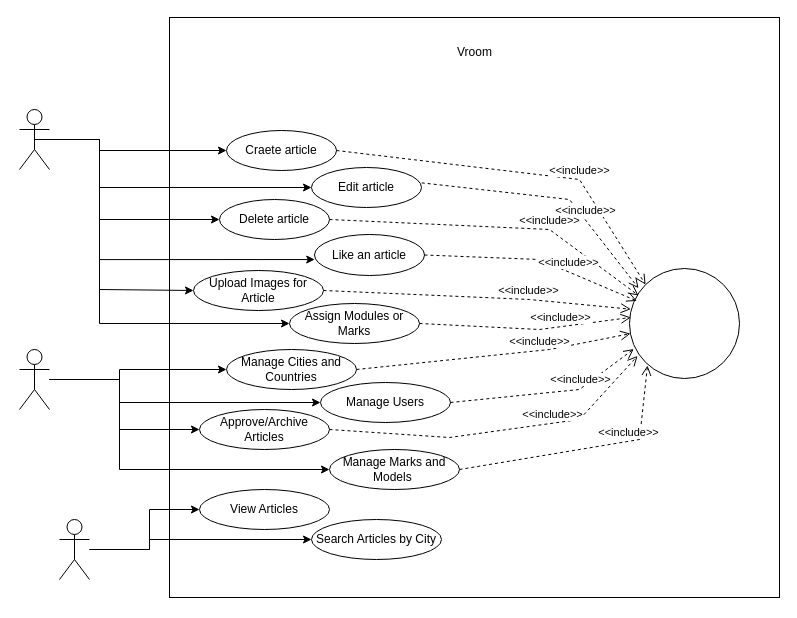
Some shapes in this 797 by 618 pixel diagram are drawn without their labels. The shapes that lost their labels are listed below. From the top down, each one's box as (x1, y1, x2, y2) in pixels, then its label:
(18, 108, 50, 170): User
(628, 268, 740, 378): Login
(18, 348, 50, 410): Admin
(58, 518, 90, 580): Guest
